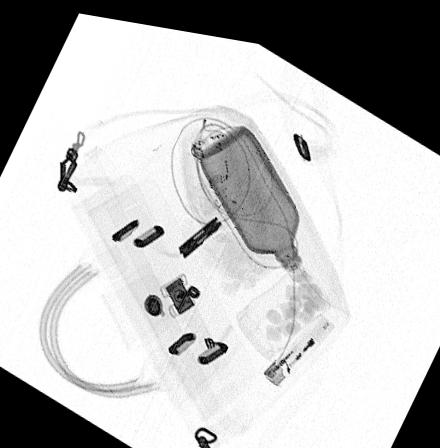Lighter: (262, 301, 333, 378)
